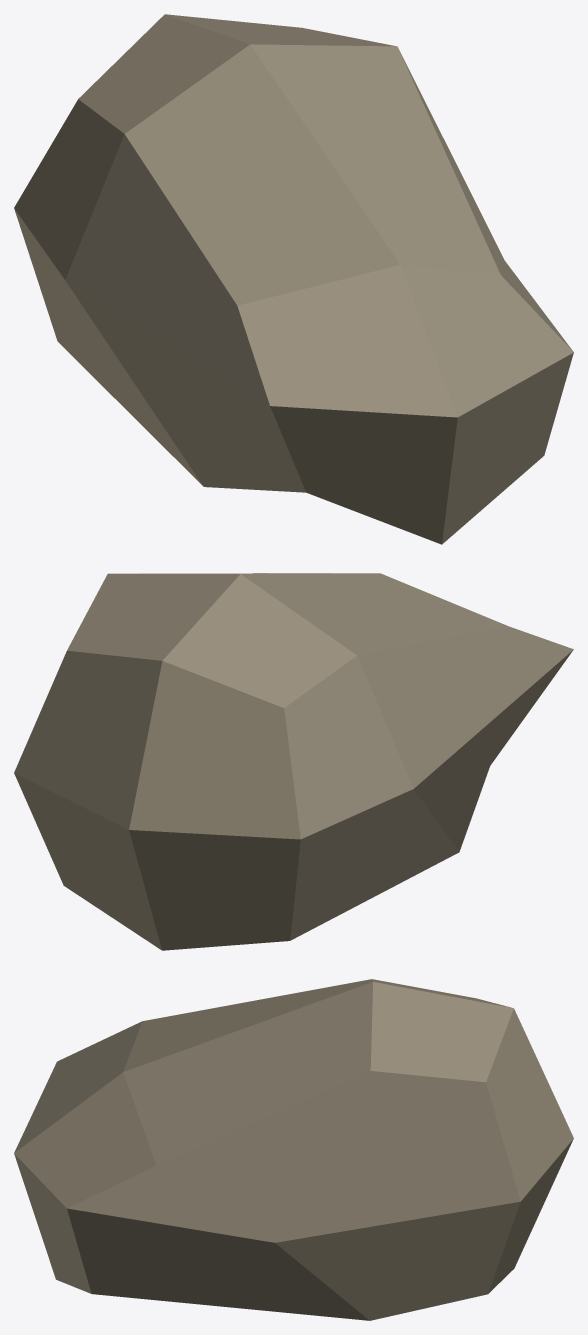
File: rock2.fbx
3 renders of one model, top to bottom at view 1: azimuth 30°, elevation 25°; view 2: azimuth 150°, elevation 25°; view 3: azimuth 270°, elevation 25°, orthographic. The views are drawn at different scales.
Parts seen in each view (by area): view 1: Cube; view 2: Cube; view 3: Cube.
Part boxes in pixels (box(x1,y1,x2,y2)): Cube: box(14, 14, 573, 544); Cube: box(14, 573, 573, 950); Cube: box(14, 979, 573, 1320).
Size of the model in its own units: 311 by 280 by 477.
